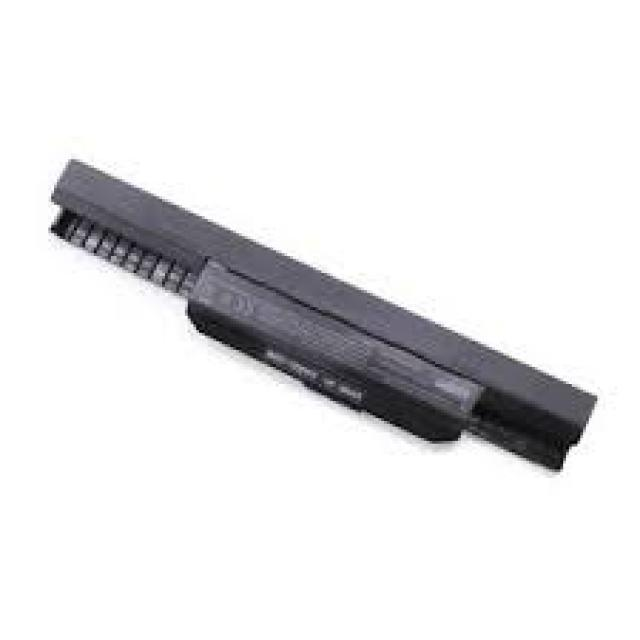battery: (56, 161, 602, 476)
